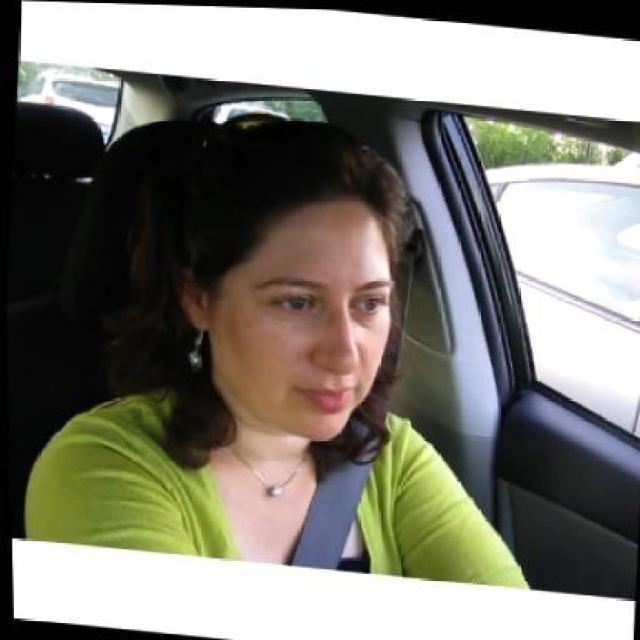attentif: (162, 106, 404, 448)
